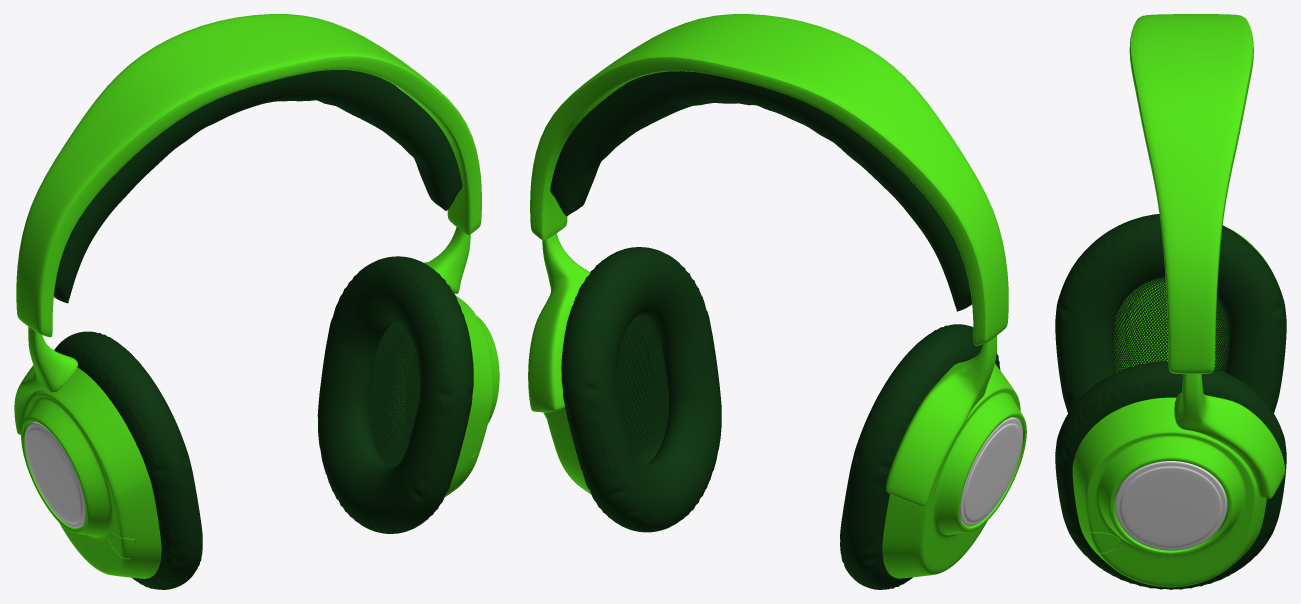
The model's file is headset.glb.
3 views of the same model, side by side, from view 1: azimuth 30°, elevation 25°; view 2: azimuth 150°, elevation 25°; view 3: azimuth 270°, elevation 25° (orthographic). The views are drawn at different scales.
Visible parts, largest first — view 1: Headset (×2); view 2: Headset (×2); view 3: Headset (×2).
Part boxes in pixels (bbox=[...]): Headset (×2): bbox=[14, 14, 499, 589]; Headset (×2): bbox=[528, 14, 1026, 589]; Headset (×2): bbox=[1055, 14, 1286, 589].
Size of the model in its own units: 2.59 by 2.8 by 1.2.
